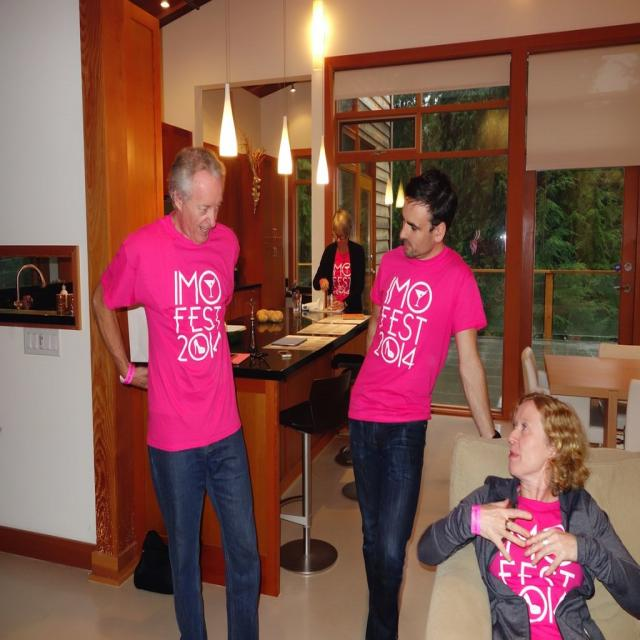chair: (279, 368, 352, 575)
desk: (131, 307, 370, 594)
person: (92, 144, 262, 640), (348, 167, 499, 640), (423, 393, 633, 634), (312, 208, 366, 314)
